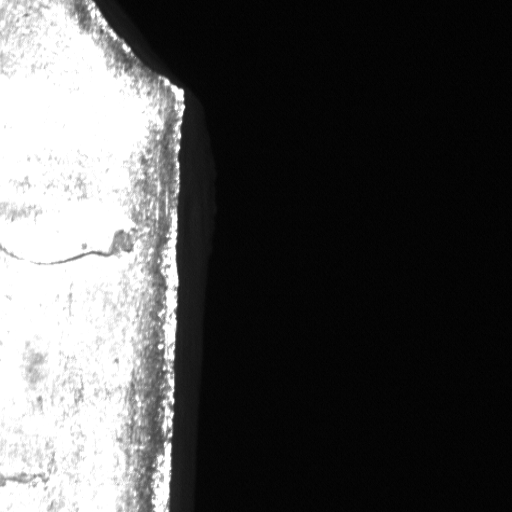bianjiaoliewen: (1, 234, 139, 267)
